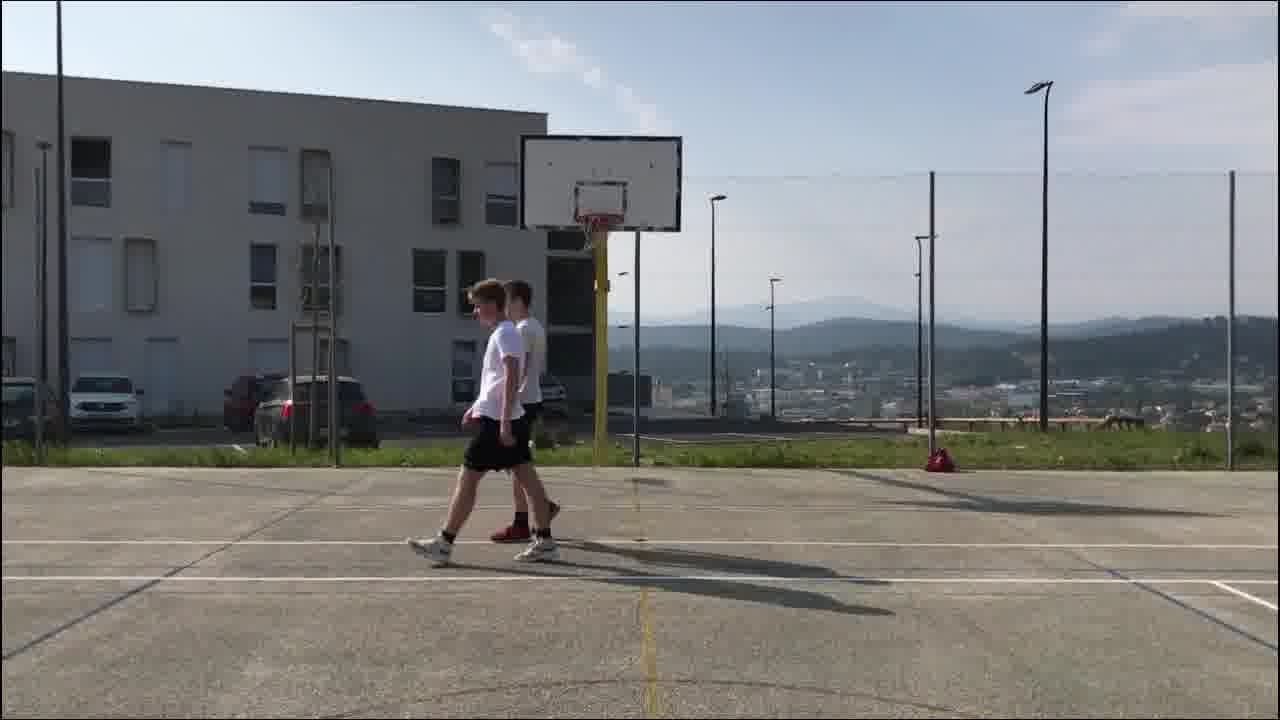jugador: (473, 268, 568, 552)
